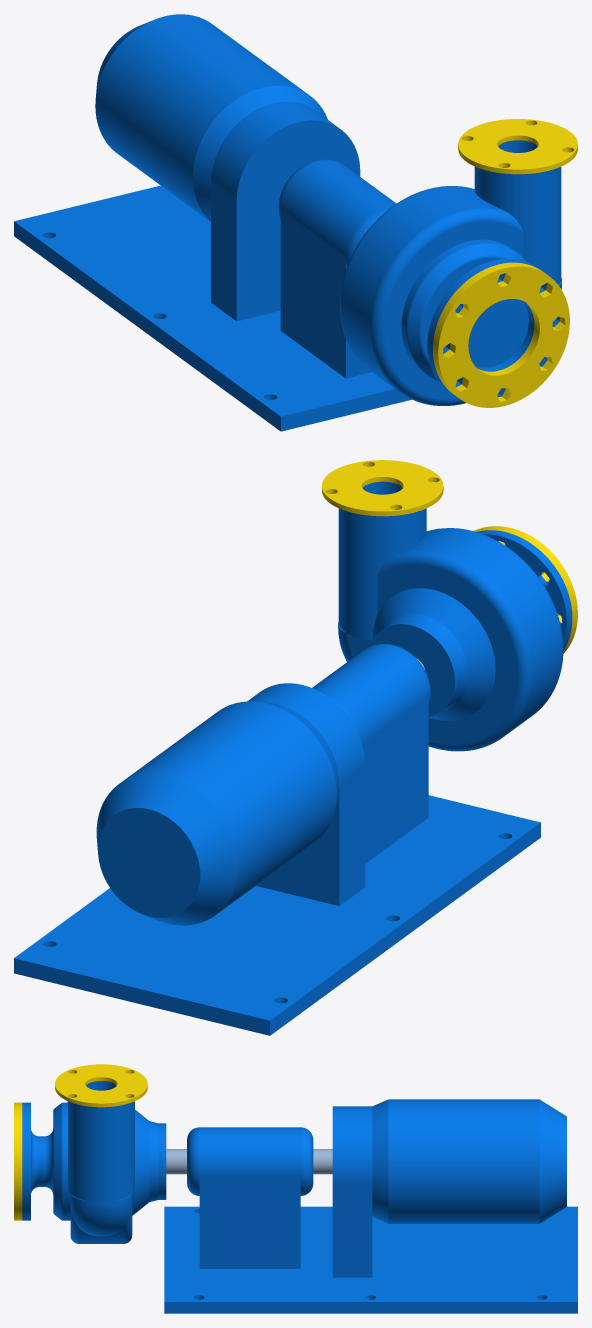
File: high-pressure-pump.gltf
The picture shows the model from 3 angles, top to bottom: view 1: azimuth 30°, elevation 25°; view 2: azimuth 150°, elevation 25°; view 3: azimuth 270°, elevation 25°; orthographic projection. The views are drawn at different scales.
Parts seen in each view (by area): view 1: 连接的实心几何图形 [217993], 拉伸 [218006], 拉伸 [217856], 连接的实心几何图形 [217994], 拉伸 [218073], 拉伸 [217996], 拉伸 [217979], 融合 [217885], 旋转 [217970], 拉伸 [218019]; view 2: 拉伸 [218006], 连接的实心几何图形 [217993], 拉伸 [217856], 融合 [217861], 连接的实心几何图形 [217994], 拉伸 [217996], 融合 [217931], 拉伸 [217979], 拉伸 [217913], 拉伸 [218019], 拉伸 [218073], 融合 [217922]; view 3: 拉伸 [218006], 拉伸 [217856], 连接的实心几何图形 [217994], 连接的实心几何图形 [217993], 拉伸 [217996], 拉伸 [217979], 融合 [217861], 融合 [217885], 放样 [217982], 融合 [217931], 旋转 [217970], 拉伸 [218019] (+5 smaller).
Part boxes in pixels (bbox=[...]): 连接的实心几何图形 [217993]: bbox=[211, 101, 525, 405]; 拉伸 [218006]: bbox=[14, 185, 411, 431]; 拉伸 [217856]: bbox=[95, 14, 305, 221]; 连接的实心几何图形 [217994]: bbox=[278, 159, 526, 381]; 拉伸 [218073]: bbox=[433, 262, 569, 407]; 拉伸 [217996]: bbox=[474, 140, 561, 284]; 拉伸 [217979]: bbox=[458, 119, 577, 174]; 融合 [217885]: bbox=[193, 85, 327, 221]; 旋转 [217970]: bbox=[468, 299, 528, 367]; 拉伸 [218019]: bbox=[427, 258, 559, 397]; 拉伸 [218006]: bbox=[14, 795, 540, 1035]; 连接的实心几何图形 [217993]: bbox=[247, 528, 563, 905]; 拉伸 [217856]: bbox=[122, 701, 336, 913]; 融合 [217861]: bbox=[96, 774, 237, 925]; 连接的实心几何图形 [217994]: bbox=[312, 644, 430, 863]; 拉伸 [217996]: bbox=[338, 481, 426, 640]; 融合 [217931]: bbox=[372, 588, 495, 720]; 拉伸 [217979]: bbox=[322, 460, 443, 516]; 拉伸 [217913]: bbox=[370, 620, 460, 716]; 拉伸 [218019]: bbox=[477, 530, 572, 650]; 拉伸 [218073]: bbox=[473, 526, 577, 653]; 融合 [217922]: bbox=[382, 613, 468, 710]; 拉伸 [218006]: bbox=[164, 1206, 577, 1313]; 拉伸 [217856]: bbox=[388, 1099, 539, 1223]; 连接的实心几何图形 [217994]: bbox=[53, 1103, 313, 1268]; 连接的实心几何图形 [217993]: bbox=[62, 1102, 372, 1277]; 拉伸 [217996]: bbox=[67, 1081, 134, 1202]; 拉伸 [217979]: bbox=[55, 1064, 147, 1107]; 融合 [217861]: bbox=[539, 1100, 566, 1223]; 融合 [217885]: bbox=[372, 1099, 388, 1223]; 放样 [217982]: bbox=[70, 1194, 132, 1236]; 融合 [217931]: bbox=[132, 1110, 149, 1215]; 旋转 [217970]: bbox=[31, 1129, 53, 1194]; 拉伸 [218019]: bbox=[22, 1102, 30, 1220].
Size of the model in its own units: 0.3531 by 0.3598 by 0.8818.
